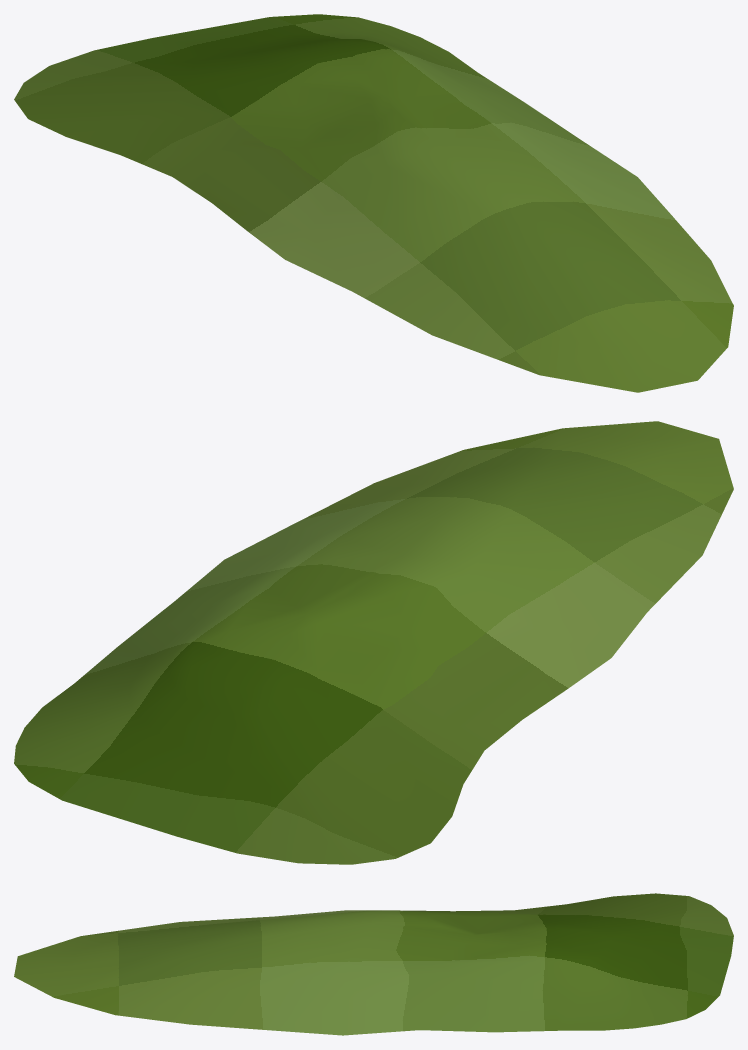
The model's file is GardenlLump01b.fbx.
3 views of the same model, one above another, from view 1: azimuth 30°, elevation 25°; view 2: azimuth 150°, elevation 25°; view 3: azimuth 270°, elevation 25° (orthographic). The views are drawn at different scales.
Parts seen in each view (by area): view 1: GardenlLump01b; view 2: GardenlLump01b; view 3: GardenlLump01b.
Boxes of the visible parts, left/top/right/bottom form: GardenlLump01b: left=14, top=14, right=733, bottom=392; GardenlLump01b: left=14, top=421, right=733, bottom=864; GardenlLump01b: left=14, top=893, right=733, bottom=1035.
Bounding box in the file's own units: 1.61 × 0.2547 × 3.44.
